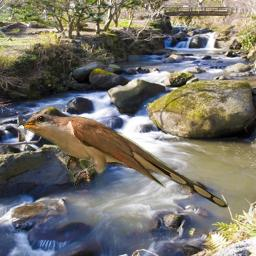Cuckoo: (12, 112, 230, 209)
